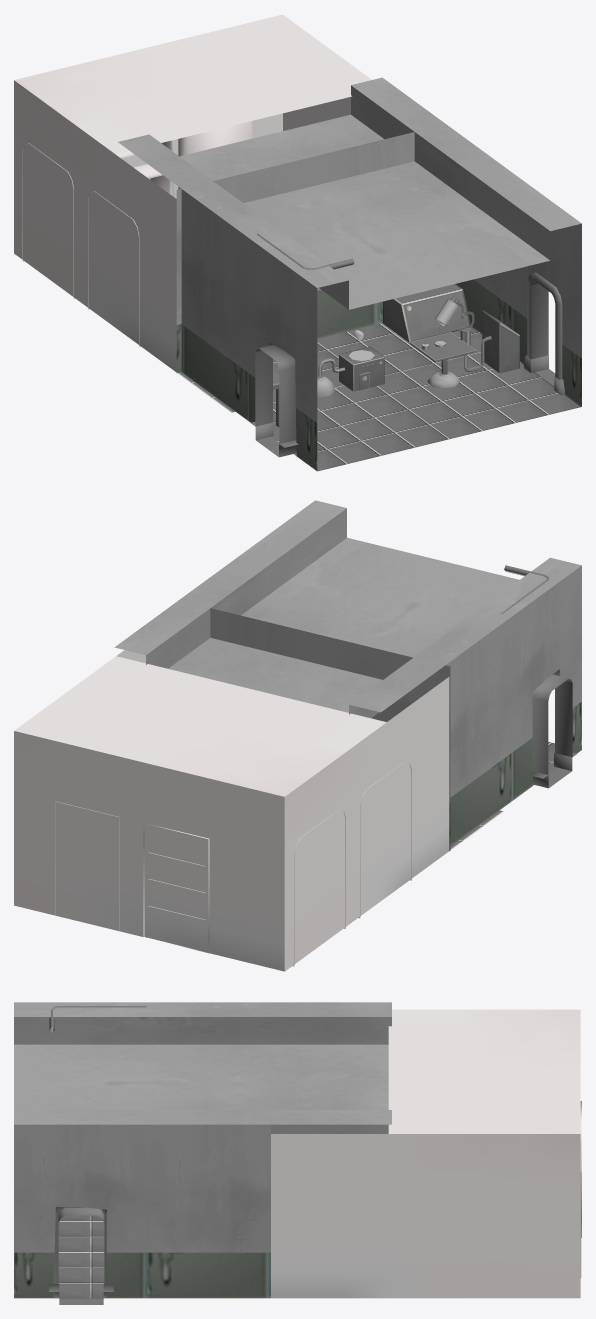
The model's file is MSH_Science_Lab_room_L1_R1_optimized.fbx.
The picture shows the model from 3 angles, top to bottom: view 1: azimuth 30°, elevation 25°; view 2: azimuth 150°, elevation 25°; view 3: azimuth 270°, elevation 25°; orthographic projection. The views are drawn at different scales.
Visible parts, largest first — view 1: lightmap1, lightmap-1; view 2: lightmap1, lightmap-1; view 3: lightmap1, lightmap-1.
Part boxes in pixels (box(x1,y1,x2,y2)): lightmap1: box(14, 14, 581, 471); lightmap-1: box(255, 281, 555, 457); lightmap1: box(14, 500, 581, 971); lightmap-1: box(532, 674, 572, 788); lightmap1: box(14, 1002, 581, 1298); lightmap-1: box(58, 1207, 104, 1304).
Size of the model in its own units: 10.3 by 6.25 by 18.24.
